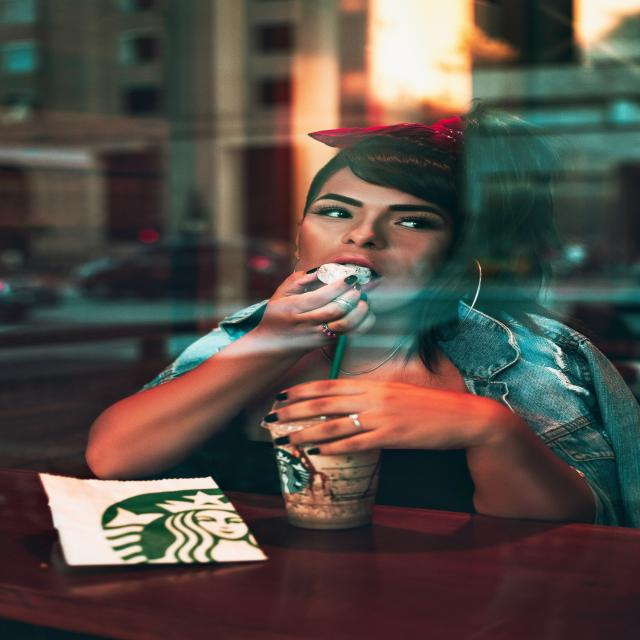starbucks: (96, 484, 264, 566), (270, 448, 318, 498)
